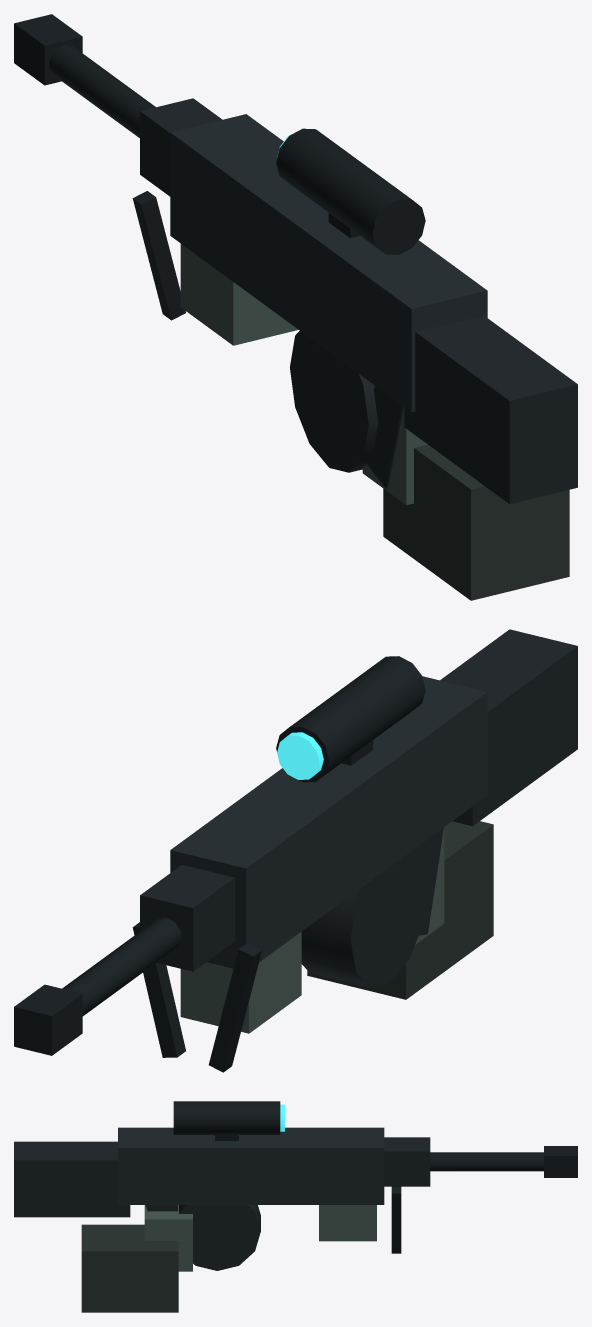
The model's file is heavy.glb.
The picture shows the model from 3 angles, top to bottom: view 1: azimuth 30°, elevation 25°; view 2: azimuth 150°, elevation 25°; view 3: azimuth 270°, elevation 25°; orthographic projection. The views are drawn at different scales.
Visible parts, largest first — view 1: Body, Stock, SleeveRear, Scope, Drum, GloveFront, Barrel, Shroud, MuzzleBrake, BipodL, Grip, GloveRear; view 2: Body, Stock, Drum, SleeveRear, Scope, Shroud, GloveFront, Barrel, MuzzleBrake, BipodL, BipodR, ScopeLens (+2 smaller); view 3: Body, Stock, SleeveRear, Drum, Scope, Shroud, Barrel, GloveFront, GloveRear, MuzzleBrake, BipodR.
Part boxes in pixels (box(x1,y1,x2,y2)): Body: box(170, 114, 487, 412); Stock: box(404, 315, 577, 504); SleeveRear: box(383, 444, 569, 600); Scope: box(276, 128, 425, 254); Drum: box(290, 331, 378, 472); GloveFront: box(180, 244, 298, 345); Barrel: box(49, 45, 155, 137); Shroud: box(140, 98, 222, 196); MuzzleBrake: box(14, 14, 82, 85); BipodL: box(132, 191, 185, 320); Grip: box(366, 386, 404, 488); GloveRear: box(362, 408, 427, 505); Body: box(170, 676, 487, 968); Stock: box(440, 629, 577, 826); Drum: box(301, 845, 429, 987); SleeveRear: box(307, 821, 493, 999); Scope: box(276, 656, 425, 782); Shroud: box(140, 865, 234, 971); GloveFront: box(180, 931, 301, 1033); Barrel: box(62, 917, 181, 1016); MuzzleBrake: box(14, 984, 82, 1055); BipodL: box(208, 943, 261, 1072); BipodR: box(132, 922, 185, 1057); ScopeLens: box(277, 732, 323, 779); Body: box(118, 1127, 384, 1204); Stock: box(14, 1141, 130, 1217); SleeveRear: box(81, 1224, 178, 1312); Drum: box(179, 1205, 260, 1270); Scope: box(173, 1101, 280, 1134); Shroud: box(384, 1137, 430, 1186); Barrel: box(430, 1152, 543, 1171); GloveFront: box(319, 1205, 376, 1241); GloveRear: box(144, 1205, 192, 1271); MuzzleBrake: box(544, 1146, 577, 1177); BipodR: box(391, 1187, 401, 1253).
Bounding box in the file's own units: 0.1945 × 0.425 × 1.16.
